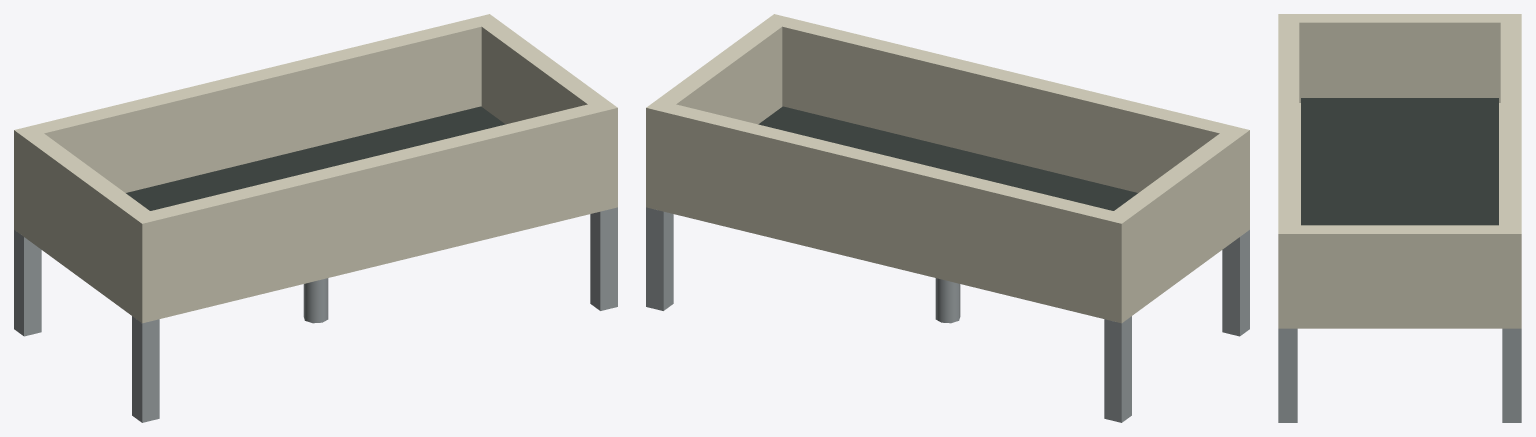
The model's file is prehistoric-survivor-settlement-stone-water-trough-de779a24__23219.glb.
The picture shows the model from 3 angles, left to right: view 1: azimuth 30°, elevation 25°; view 2: azimuth 150°, elevation 25°; view 3: azimuth 270°, elevation 25°; orthographic projection. The views are drawn at different scales.
Visible parts, largest first — view 1: stone-water-trough; view 2: stone-water-trough; view 3: stone-water-trough.
Part boxes in pixels (x1,y1,x2,y2): stone-water-trough: (14,14,617,422); stone-water-trough: (646,14,1249,422); stone-water-trough: (1278,14,1521,422).
Size of the model in its own units: 1.5 by 0.5999 by 0.6999.
